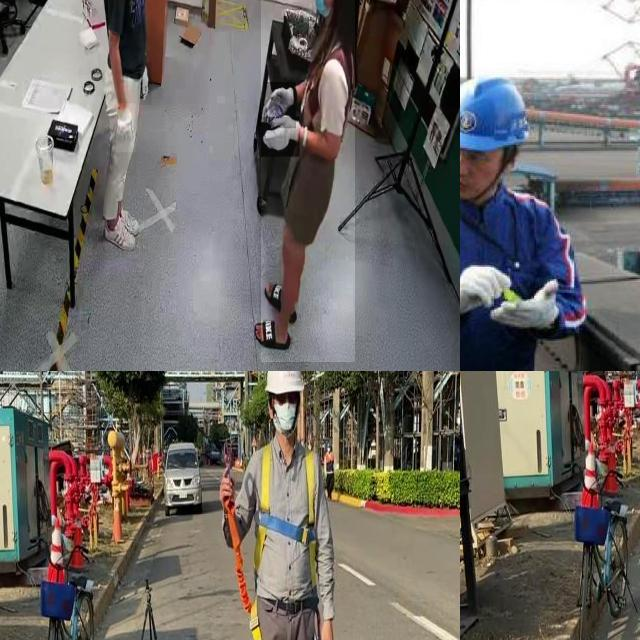Harness: (256, 444, 316, 588), (227, 505, 265, 640)
face_mask: (312, 0, 337, 28)
face_nomask: (460, 146, 497, 199)
hand_glove: (488, 275, 560, 330), (460, 260, 512, 315), (261, 116, 299, 156), (264, 82, 296, 128), (116, 103, 136, 153), (138, 62, 152, 106)
head_helmet: (460, 72, 534, 154)
person: (460, 69, 582, 371), (260, 0, 355, 363), (100, 0, 164, 260)
shoes: (103, 214, 137, 252), (112, 194, 138, 239)
